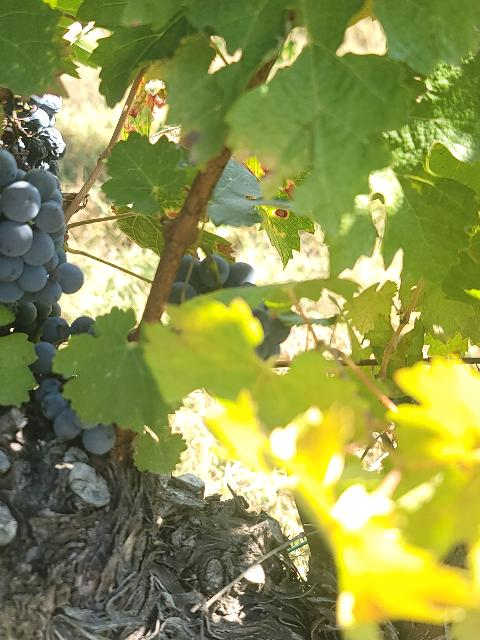grapes: (0, 149, 84, 334), (30, 316, 116, 454), (169, 255, 254, 304), (252, 302, 290, 359)
